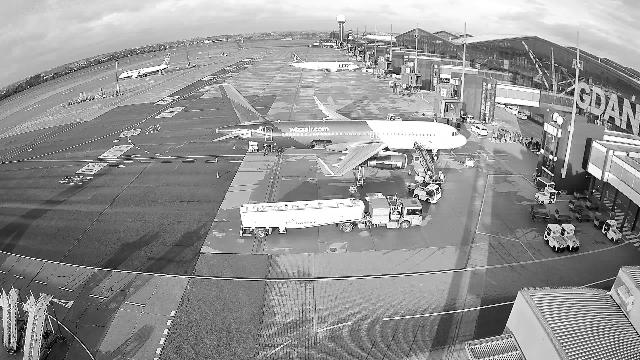Aircraft: (212, 83, 467, 176), (289, 52, 360, 72), (118, 53, 171, 79)
Airport_Tractor: (543, 223, 567, 252), (560, 223, 580, 252), (414, 183, 441, 203), (601, 220, 622, 244), (535, 186, 556, 204), (386, 114, 402, 121)
Baggage_Trolley: (531, 205, 550, 221), (407, 175, 424, 192), (536, 176, 555, 190), (554, 209, 572, 222), (584, 196, 599, 210), (576, 210, 593, 222), (594, 215, 608, 229), (569, 199, 584, 211), (425, 174, 445, 183), (574, 190, 588, 200)
Conveyor_Belt: (410, 145, 435, 174), (418, 106, 435, 116)
Fuel_Tuck: (239, 192, 423, 238)
Ground_Crew: (349, 185, 358, 198), (427, 170, 433, 175), (438, 169, 442, 173)
Passengers: (491, 126, 526, 145), (526, 135, 541, 151)
